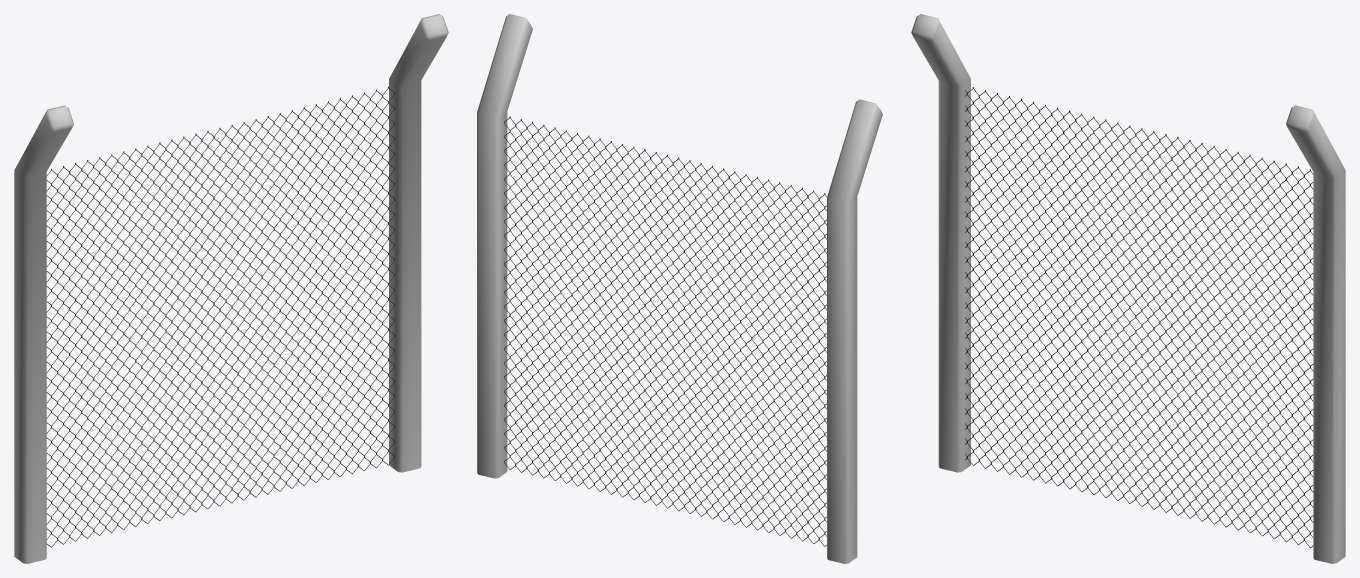
Rendered from CercoSimple.FBX.
3 renders of one model, left to right at view 1: azimuth 30°, elevation 25°; view 2: azimuth 150°, elevation 25°; view 3: azimuth 330°, elevation 25°, orthographic. The views are drawn at different scales.
Parts seen in each view (by area): view 1: Cerca, PaloCerco; view 2: PaloCerco, Cerca; view 3: Cerca, PaloCerco.
Boxes of the visible parts, x1=… form: Cerca: x1=46, y1=86, x2=394, y2=547; PaloCerco: x1=14, y1=14, x2=448, y2=563; PaloCerco: x1=477, y1=14, x2=882, y2=563; Cerca: x1=504, y1=116, x2=826, y2=546; Cerca: x1=965, y1=87, x2=1313, y2=547; PaloCerco: x1=911, y1=14, x2=1345, y2=563.
Bounding box in the file's own units: 141 × 158 × 24.18.
